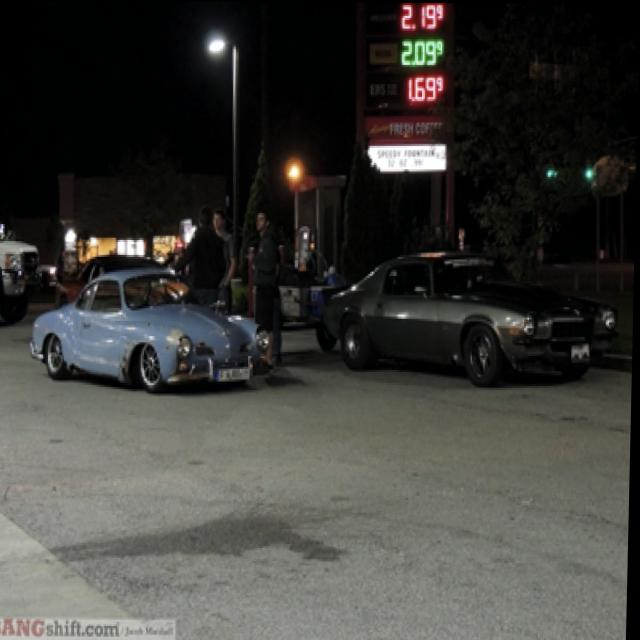licence: (214, 366, 251, 381)
